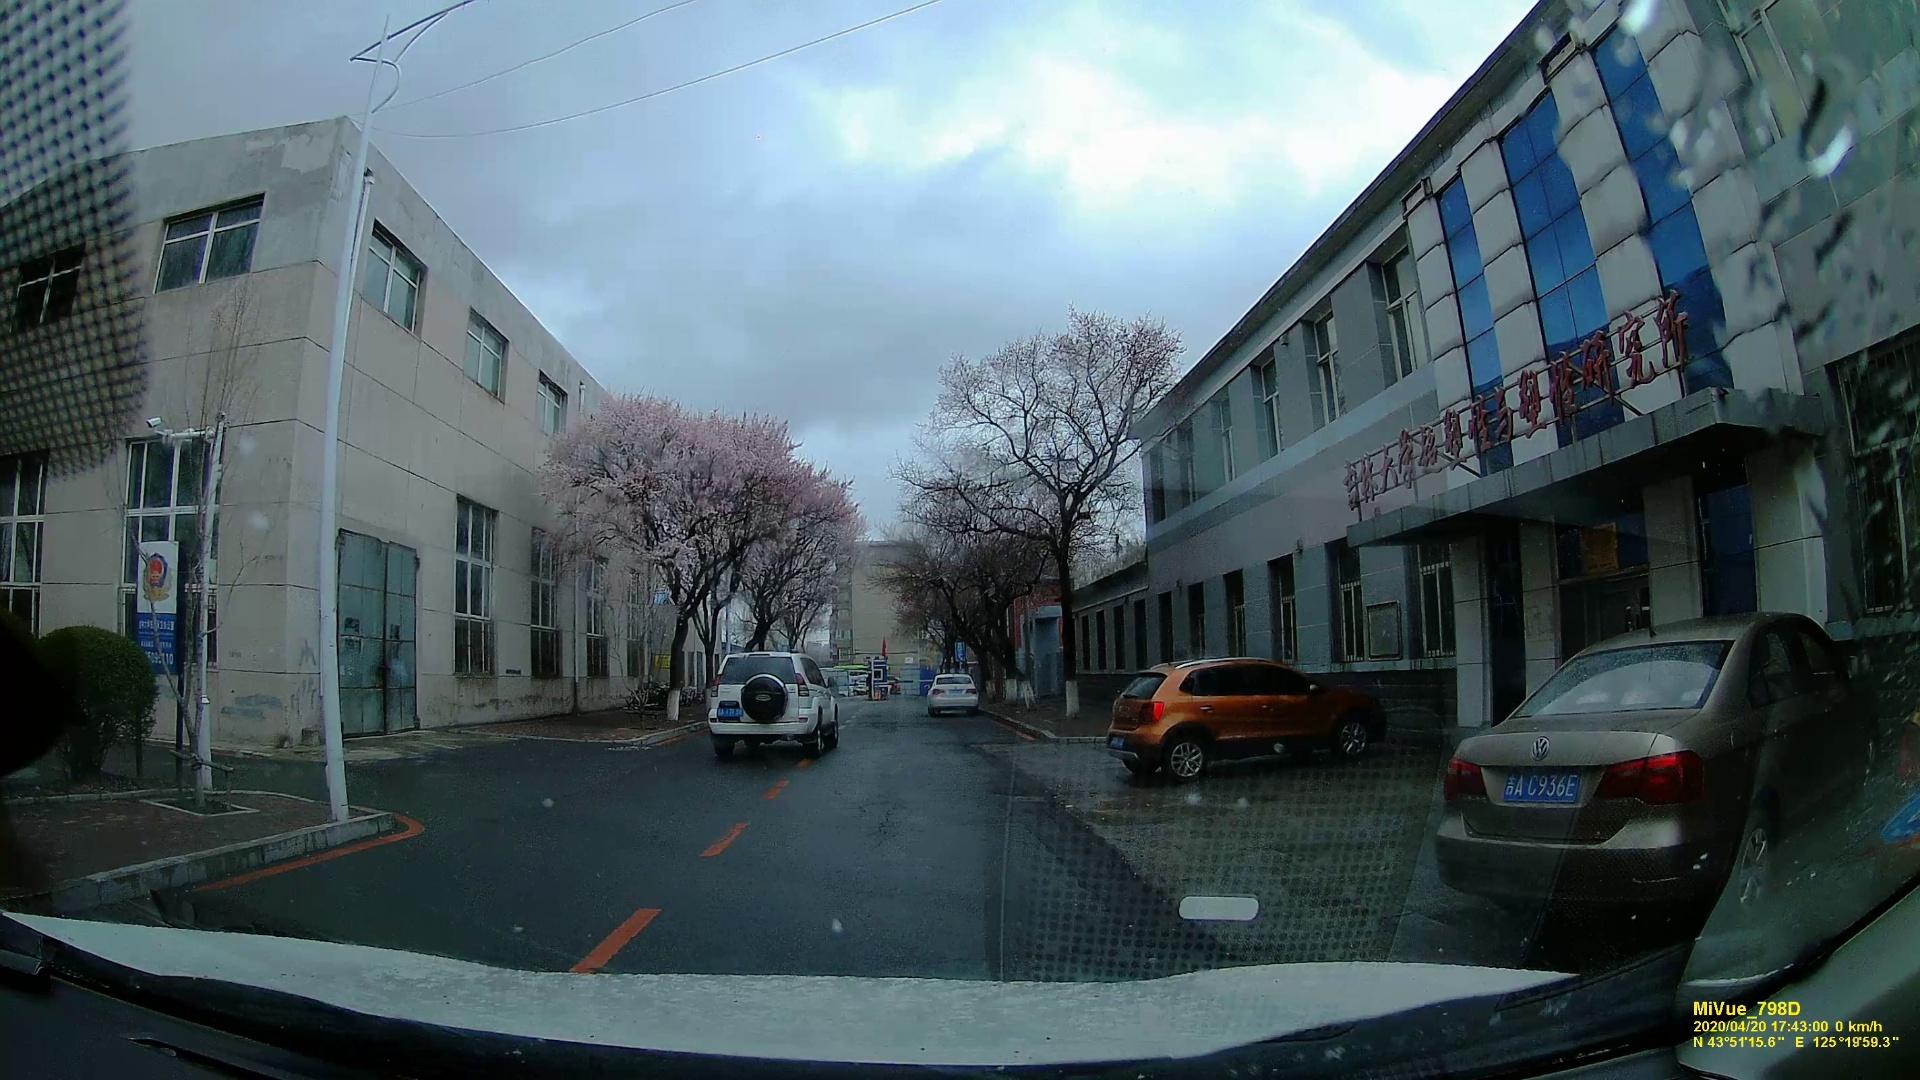traffic_sign: (132, 541, 179, 670)
vehicle: (1437, 616, 1903, 916), (1097, 651, 1385, 783), (704, 647, 843, 760), (924, 673, 980, 716)
